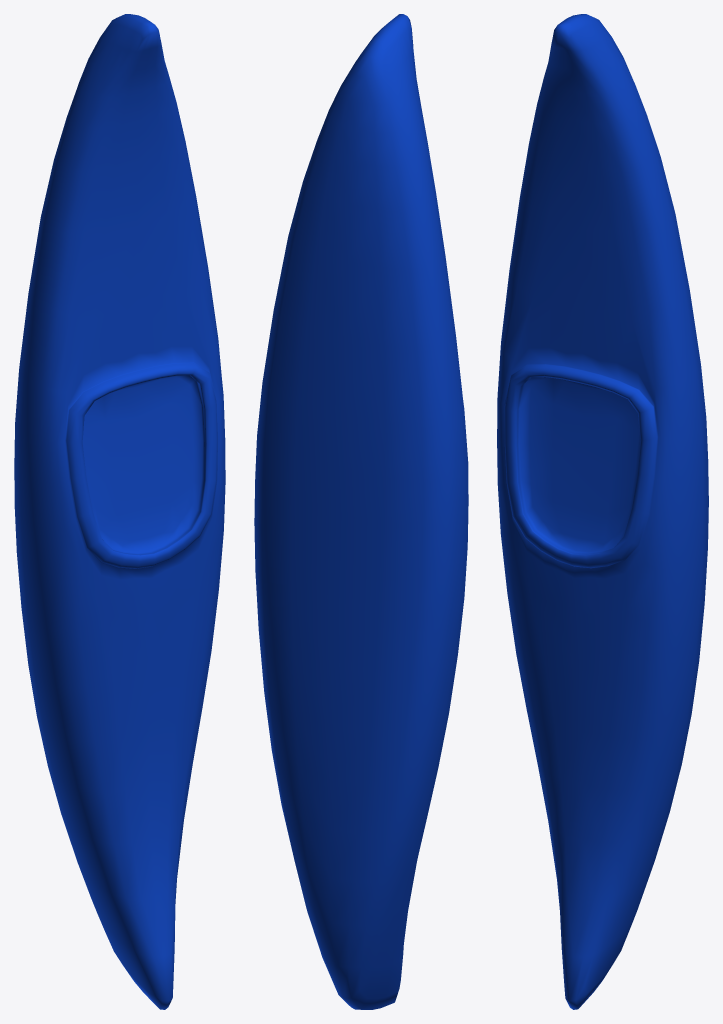
File: boat.obj
The picture shows the model from 3 angles, left to right: view 1: azimuth 30°, elevation 25°; view 2: azimuth 150°, elevation 25°; view 3: azimuth 330°, elevation 25°; orthographic projection.
Visible parts, largest first — view 1: Kayak_Yellow_0; view 2: Kayak_Yellow_0; view 3: Kayak_Yellow_0.
Part boxes in pixels (<box>): Kayak_Yellow_0: <box>14,14,225,1009</box>; Kayak_Yellow_0: <box>254,14,468,1009</box>; Kayak_Yellow_0: <box>497,14,708,1009</box>.
Bounding box in the file's own units: 1.26 × 6.15 × 0.7889.
